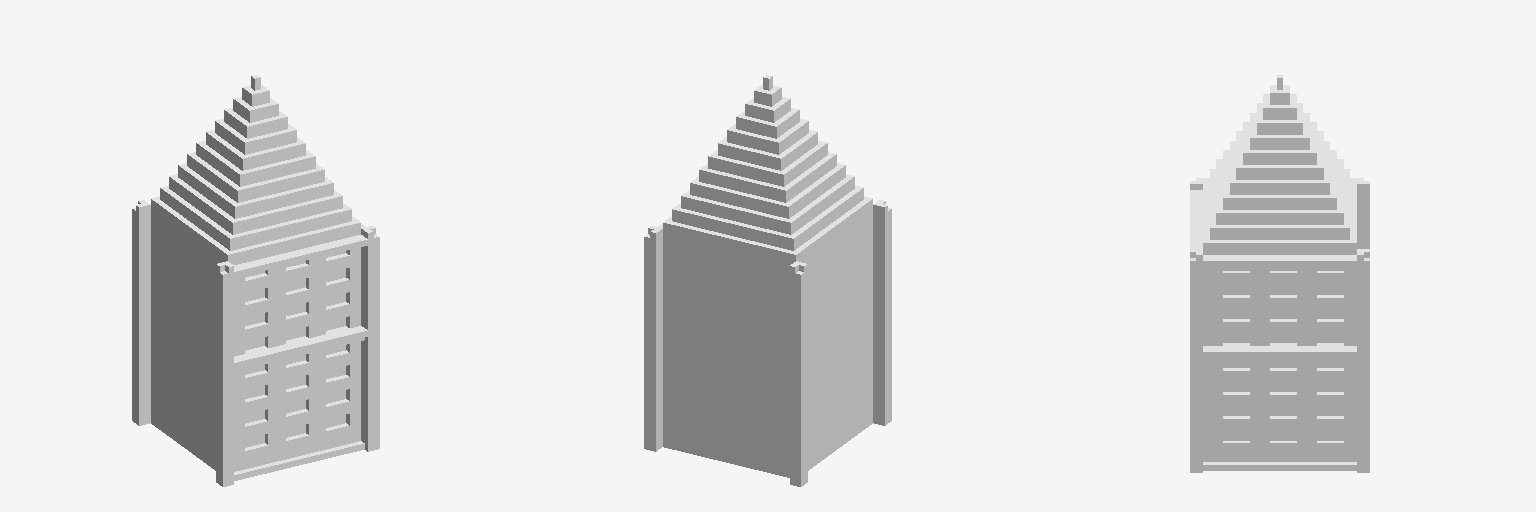
File: immeuble1.obj
3 views of the same model, side by side, from view 1: azimuth 30°, elevation 25°; view 2: azimuth 150°, elevation 25°; view 3: azimuth 270°, elevation 25° (orthographic).
Size of the model in its own units: 27 by 59 by 27.